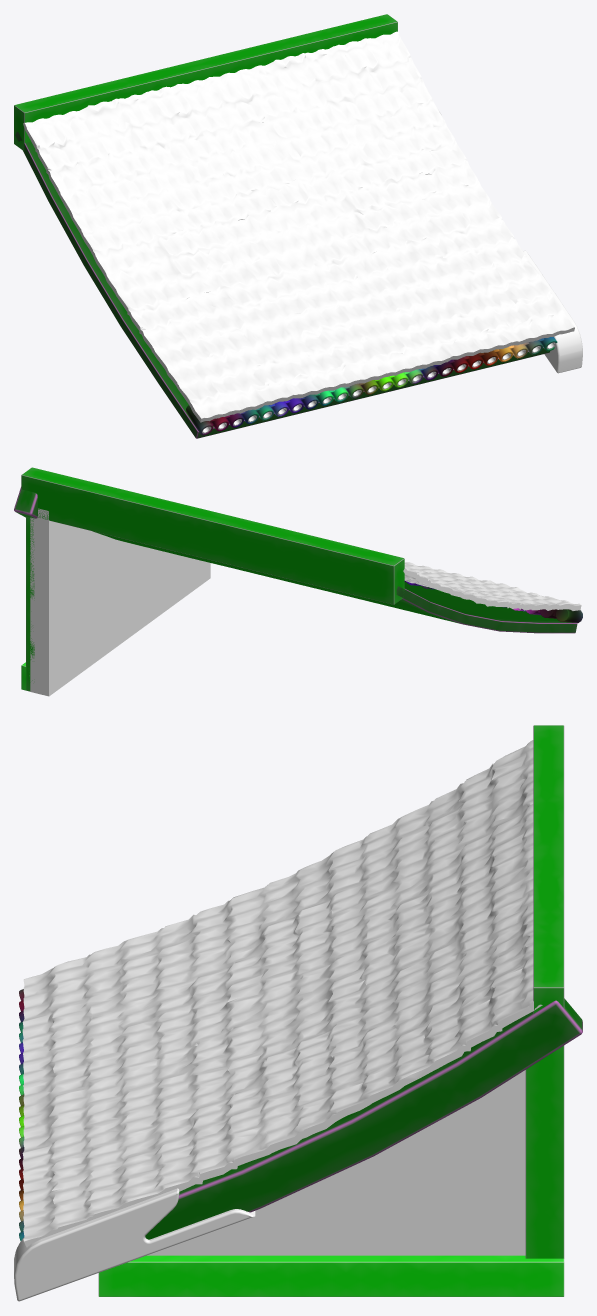
Rendered from roof_side_400x300_01_right.fbx.
3 views of the same model, one above another, from view 1: azimuth 30°, elevation 25°; view 2: azimuth 150°, elevation 25°; view 3: azimuth 270°, elevation 25° (orthographic). The views are drawn at different scales.
Parts seen in each view (by area): view 1: roof_side_400x300_01_right; view 2: roof_side_400x300_01_right; view 3: roof_side_400x300_01_right.
Part boxes in pixels (bbox=[...]): roof_side_400x300_01_right: bbox=[14, 14, 582, 438]; roof_side_400x300_01_right: bbox=[14, 467, 582, 696]; roof_side_400x300_01_right: bbox=[14, 725, 582, 1301].
Bounding box in the file's own units: 4.07 × 2.21 × 3.66.
